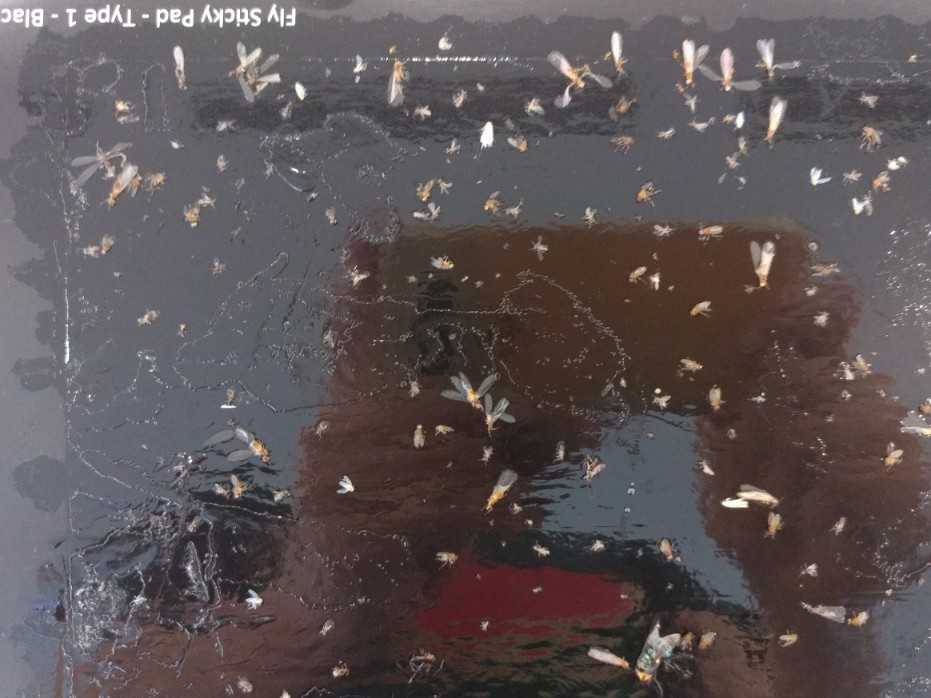house fly: (620, 615, 707, 698)
